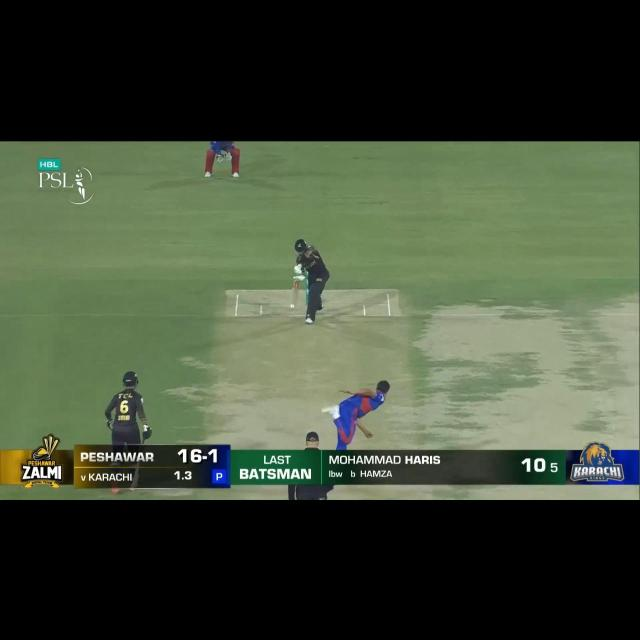bat: (290, 278, 300, 311)
toe: (290, 300, 298, 308), (129, 487, 136, 491)
